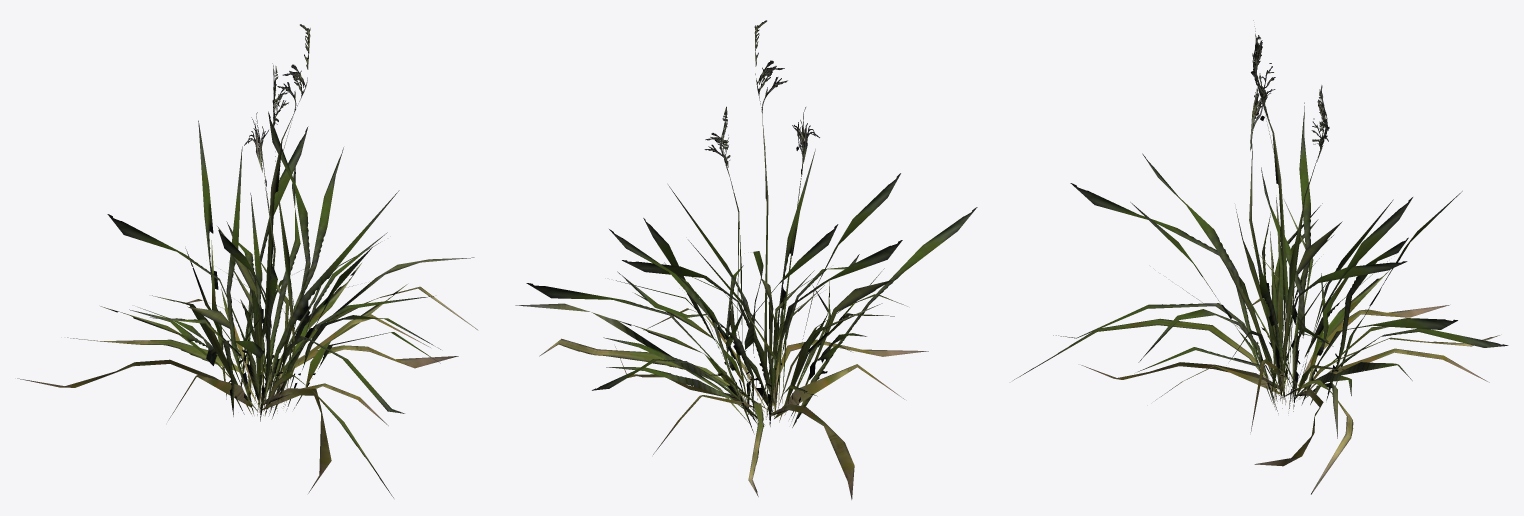
The picture shows the model from 3 angles, left to right: view 1: azimuth 30°, elevation 25°; view 2: azimuth 150°, elevation 25°; view 3: azimuth 270°, elevation 25°; orthographic projection. The views are drawn at different scales.
Parts seen in each view (by area): view 1: grass_medium_01_mid_b_LOD0; view 2: grass_medium_01_mid_b_LOD0; view 3: grass_medium_01_mid_b_LOD0.
Boxes of the visible parts, x1=… form: grass_medium_01_mid_b_LOD0: x1=17, y1=24, x2=477, y2=497; grass_medium_01_mid_b_LOD0: x1=515, y1=20, x2=977, y2=499; grass_medium_01_mid_b_LOD0: x1=1013, y1=20, x2=1508, y2=494.
Bounding box in the file's own units: 0.9318 × 0.8829 × 0.9972.
Materials: 1 (1 with a texture image).
